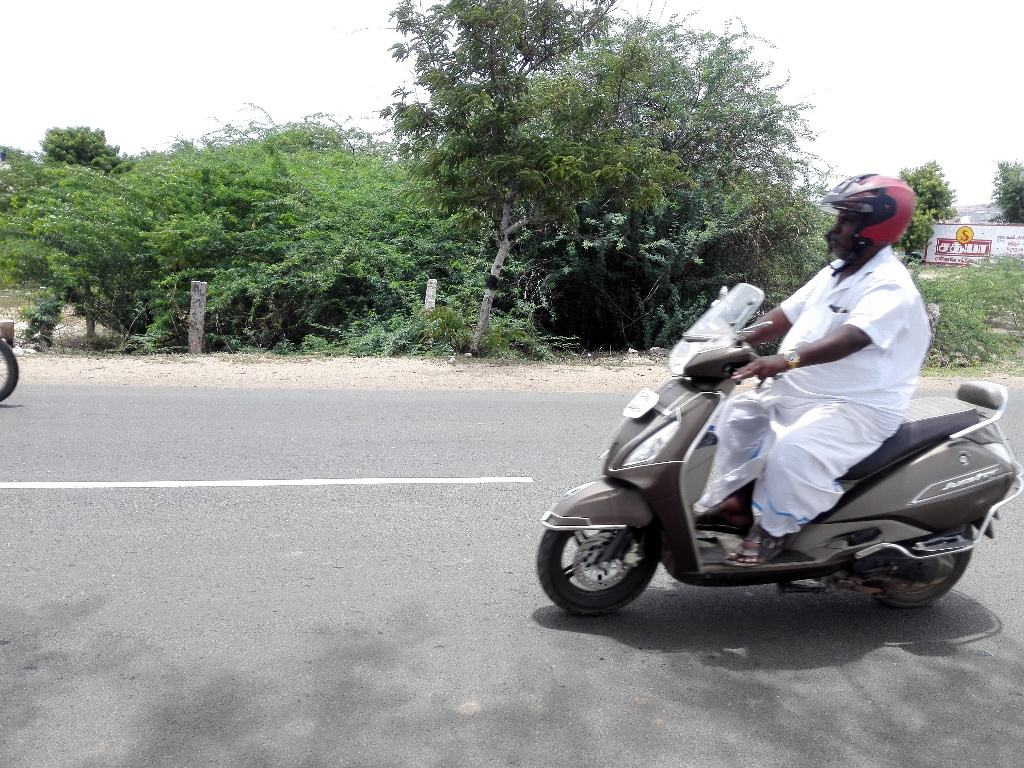biker: (494, 110, 1024, 648)
helmet: (808, 161, 923, 278)
